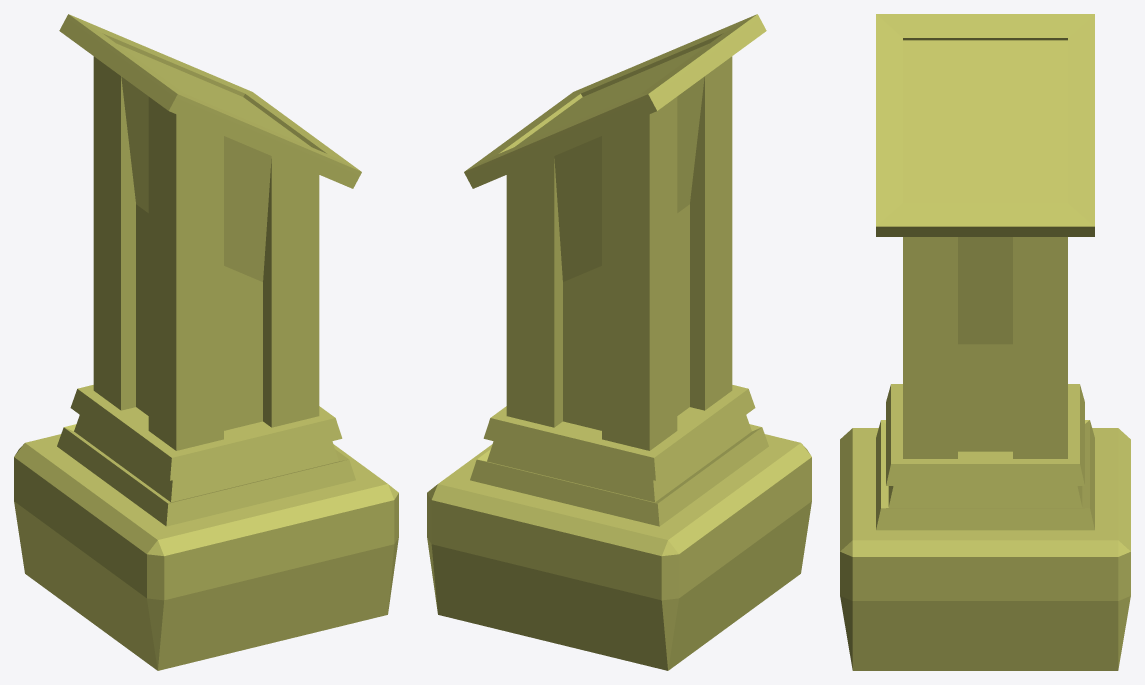
The model's file is parchment_statuefbx.fbx.
The picture shows the model from 3 angles, left to right: view 1: azimuth 30°, elevation 25°; view 2: azimuth 150°, elevation 25°; view 3: azimuth 270°, elevation 25°; orthographic projection.
Visible parts, largest first — view 1: parchment_statue; view 2: parchment_statue; view 3: parchment_statue.
Boxes of the visible parts, x1,y1,x2,y2 form: parchment_statue: (14, 14, 398, 670); parchment_statue: (427, 14, 811, 670); parchment_statue: (840, 14, 1130, 670).
Size of the model in its own units: 1.04 by 2.22 by 1.04.
